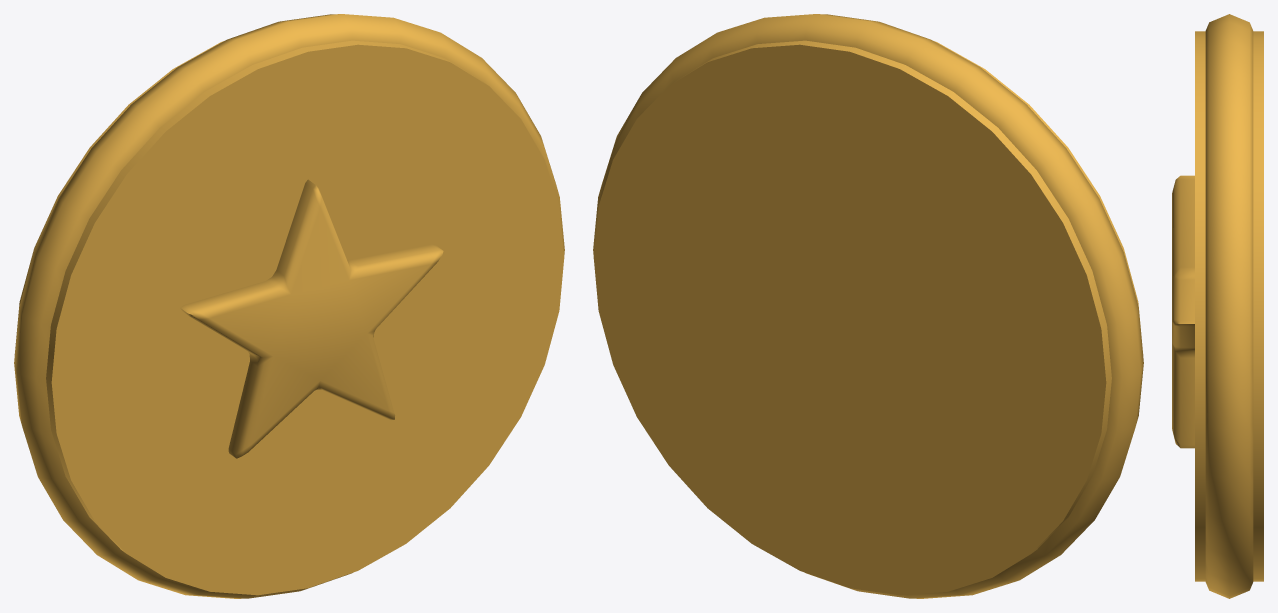
Rendered from icon_coin.glb.
3 views of the same model, side by side, from view 1: azimuth 30°, elevation 25°; view 2: azimuth 150°, elevation 25°; view 3: azimuth 270°, elevation 25° (orthographic). The views are drawn at different scales.
Parts seen in each view (by area): view 1: Coin; view 2: Coin; view 3: Coin.
Boxes of the visible parts, left/top/right/bottom form: Coin: left=14, top=14, right=564, bottom=598; Coin: left=593, top=14, right=1143, bottom=598; Coin: left=1172, top=14, right=1263, bottom=598.
Bounding box in the file's own units: 1.02 × 1.02 × 0.16.
1 material, 1 textured.
